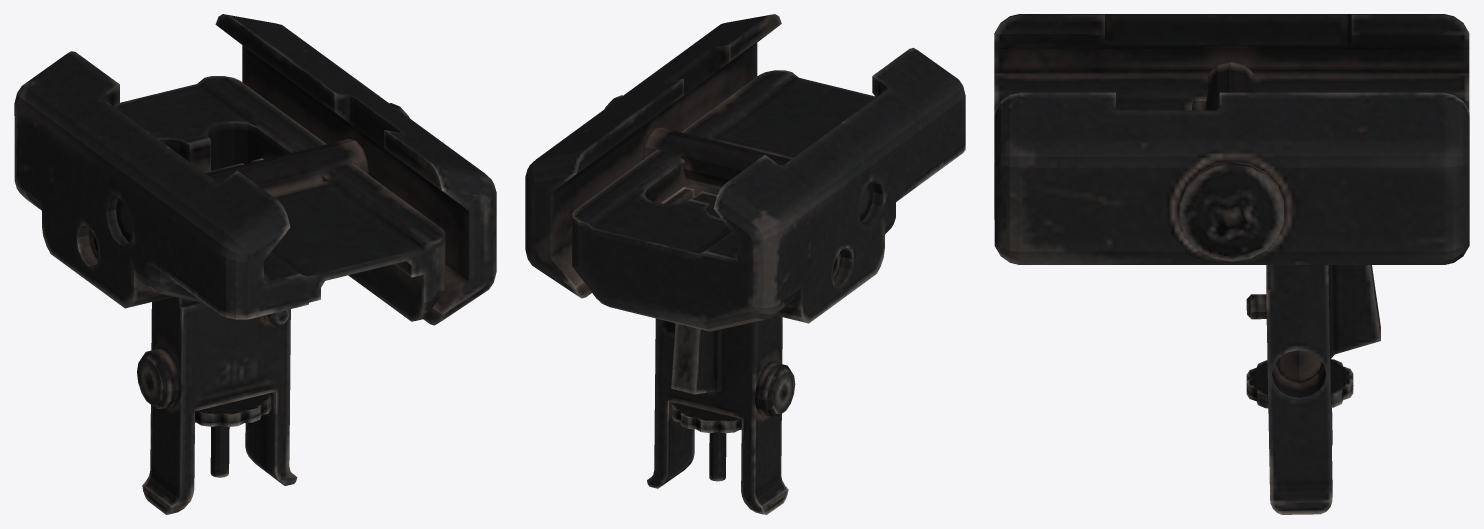
The picture shows the model from 3 angles, left to right: view 1: azimuth 30°, elevation 25°; view 2: azimuth 150°, elevation 25°; view 3: azimuth 270°, elevation 25°; orthographic projection. The views are drawn at different scales.
Visible parts, largest first — view 1: TW_5ba26b01d4351e0085325a51_PZ_Import; view 2: TW_5ba26b01d4351e0085325a51_PZ_Import; view 3: TW_5ba26b01d4351e0085325a51_PZ_Import.
Part boxes in pixels (x1,y1,x2,y2): TW_5ba26b01d4351e0085325a51_PZ_Import: [14, 14, 496, 514]; TW_5ba26b01d4351e0085325a51_PZ_Import: [525, 14, 965, 514]; TW_5ba26b01d4351e0085325a51_PZ_Import: [994, 14, 1469, 514].
Bounding box in the file's own units: 0.0184 × 0.025 × 0.0249.
Materials: 1 (1 with a texture image).
